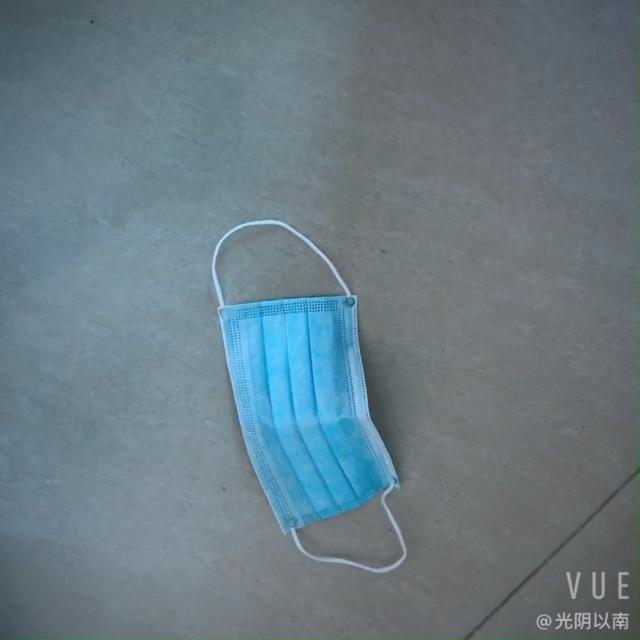non-organic waste: (228, 211, 410, 578)
